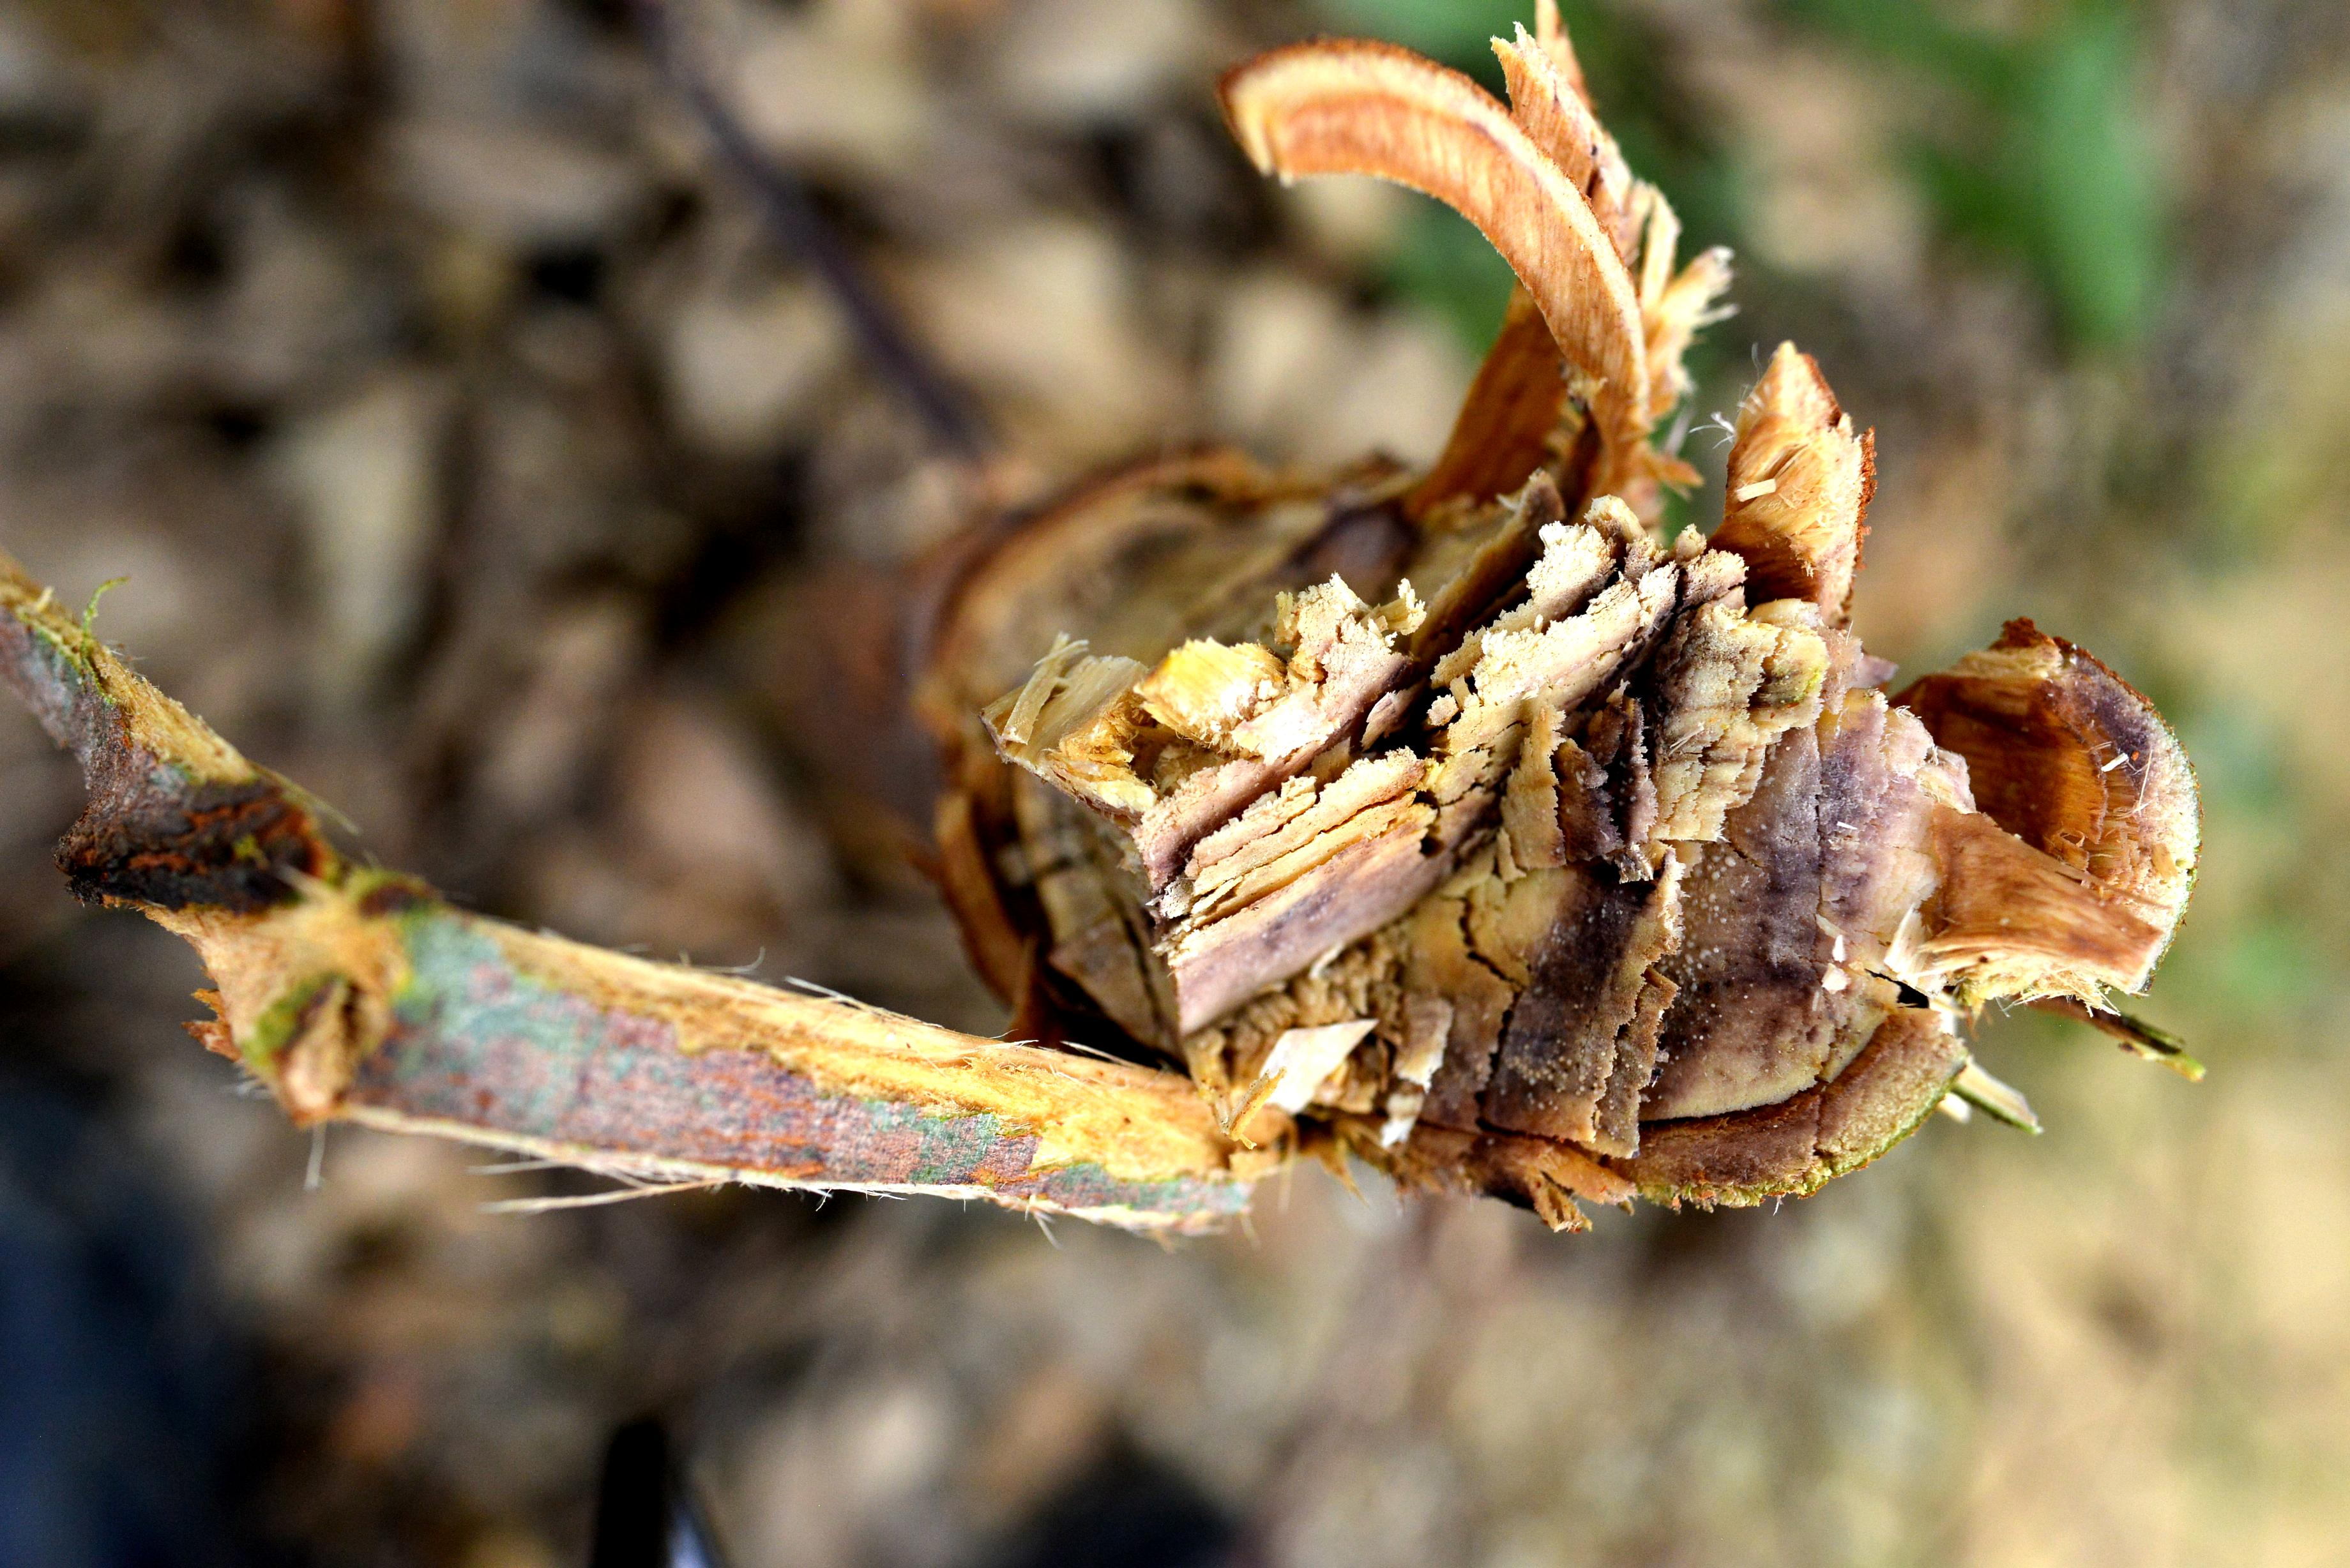Ralstonia: (1489, 824, 1759, 1125)
